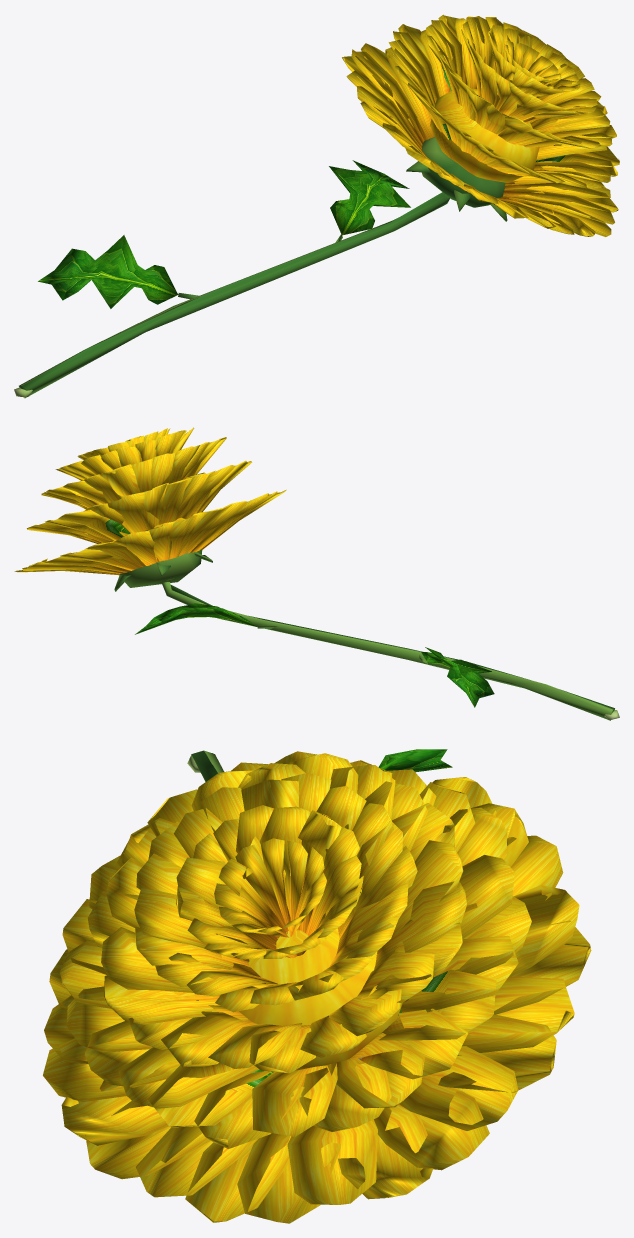
Rendered from NP_Chrysanthemum_Harvest_LOD1.fbx.
3 renders of one model, top to bottom at view 1: azimuth 30°, elevation 25°; view 2: azimuth 150°, elevation 25°; view 3: azimuth 270°, elevation 25°, orthographic. The views are drawn at different scales.
Visible parts, largest first — view 1: NP_Chrysanthemum_Harvest; view 2: NP_Chrysanthemum_Harvest; view 3: NP_Chrysanthemum_Harvest.
Boxes of the visible parts, <box> form: NP_Chrysanthemum_Harvest: <box>14,14,619,398</box>; NP_Chrysanthemum_Harvest: <box>14,427,619,720</box>; NP_Chrysanthemum_Harvest: <box>43,749,591,1223</box>.
Size of the model in its own units: 60.57 by 21.53 by 26.15.
